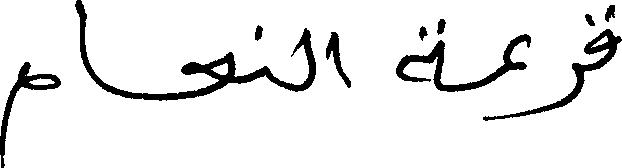X: (0, 57, 60, 167), (396, 14, 444, 95), (543, 43, 584, 116), (184, 47, 234, 103), (503, 29, 531, 123), (586, 0, 621, 75), (76, 0, 98, 89), (329, 27, 349, 92), (302, 23, 314, 95), (258, 20, 271, 86)
